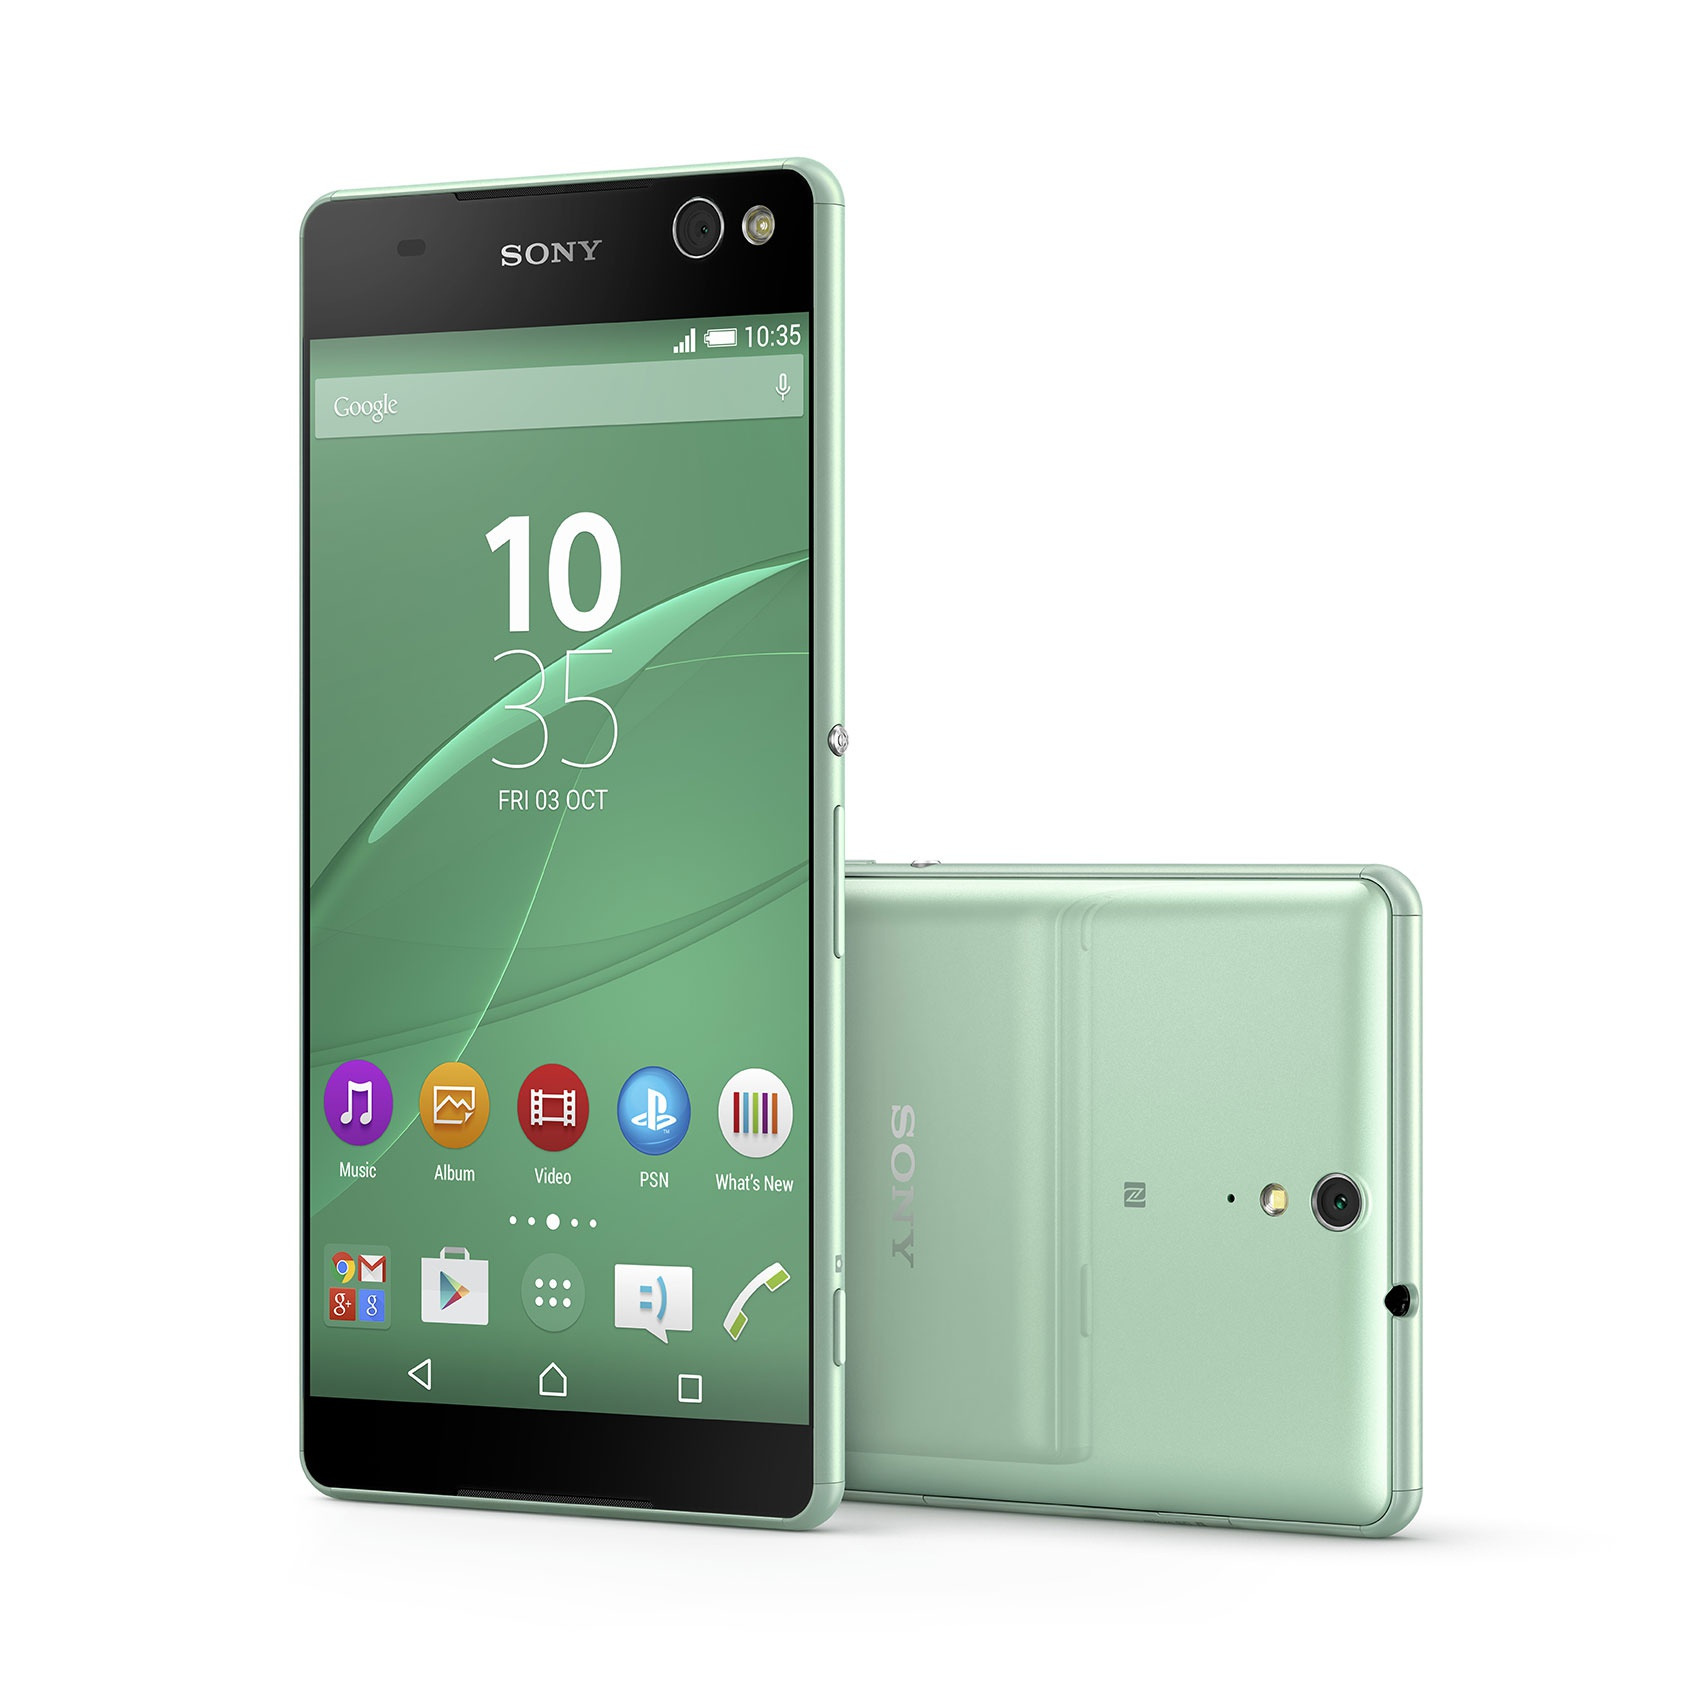smartphone: (299, 157, 847, 1533), (844, 858, 1424, 1538)
